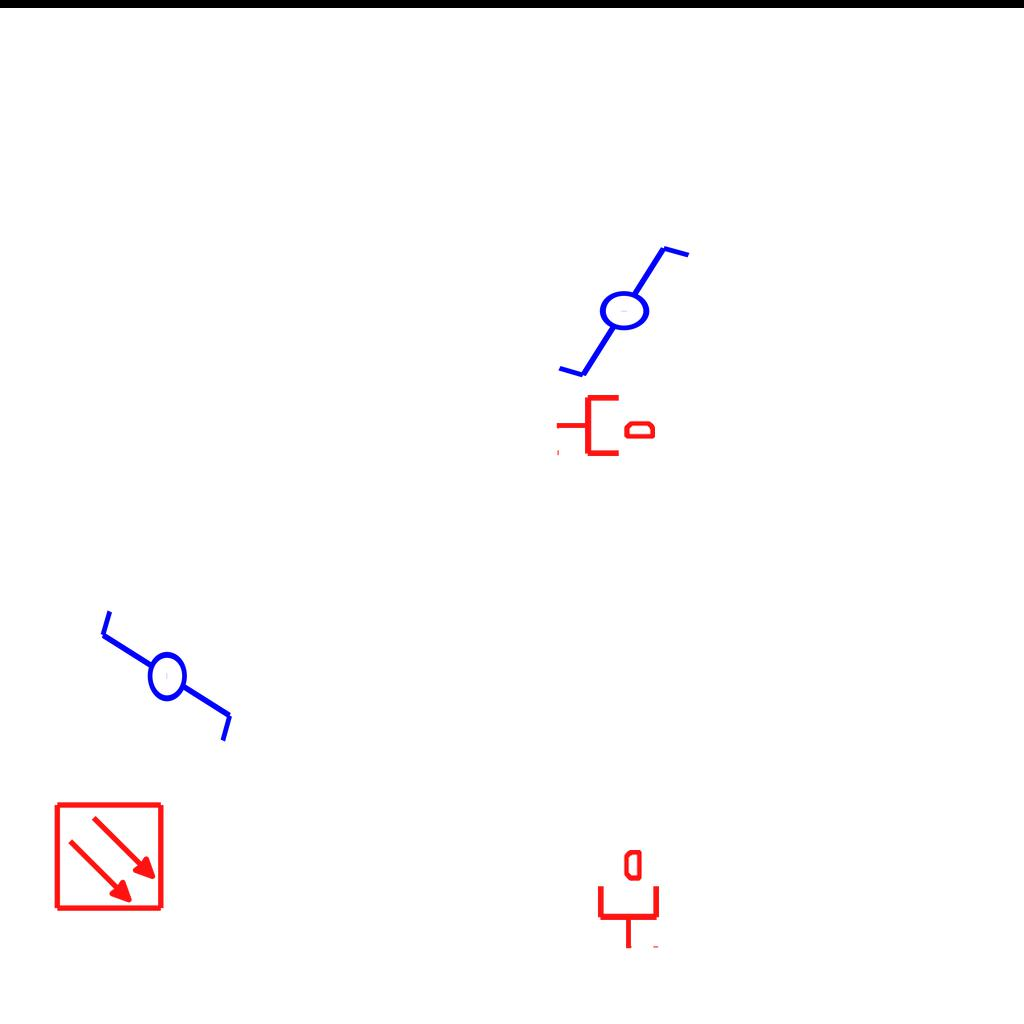Datenanschluss_einfach: (555, 391, 655, 460), (594, 850, 663, 950)
RMO_Rauchmelder_optischer: (53, 800, 166, 913)
Wechselschalter: (93, 606, 237, 763), (554, 241, 711, 385)
